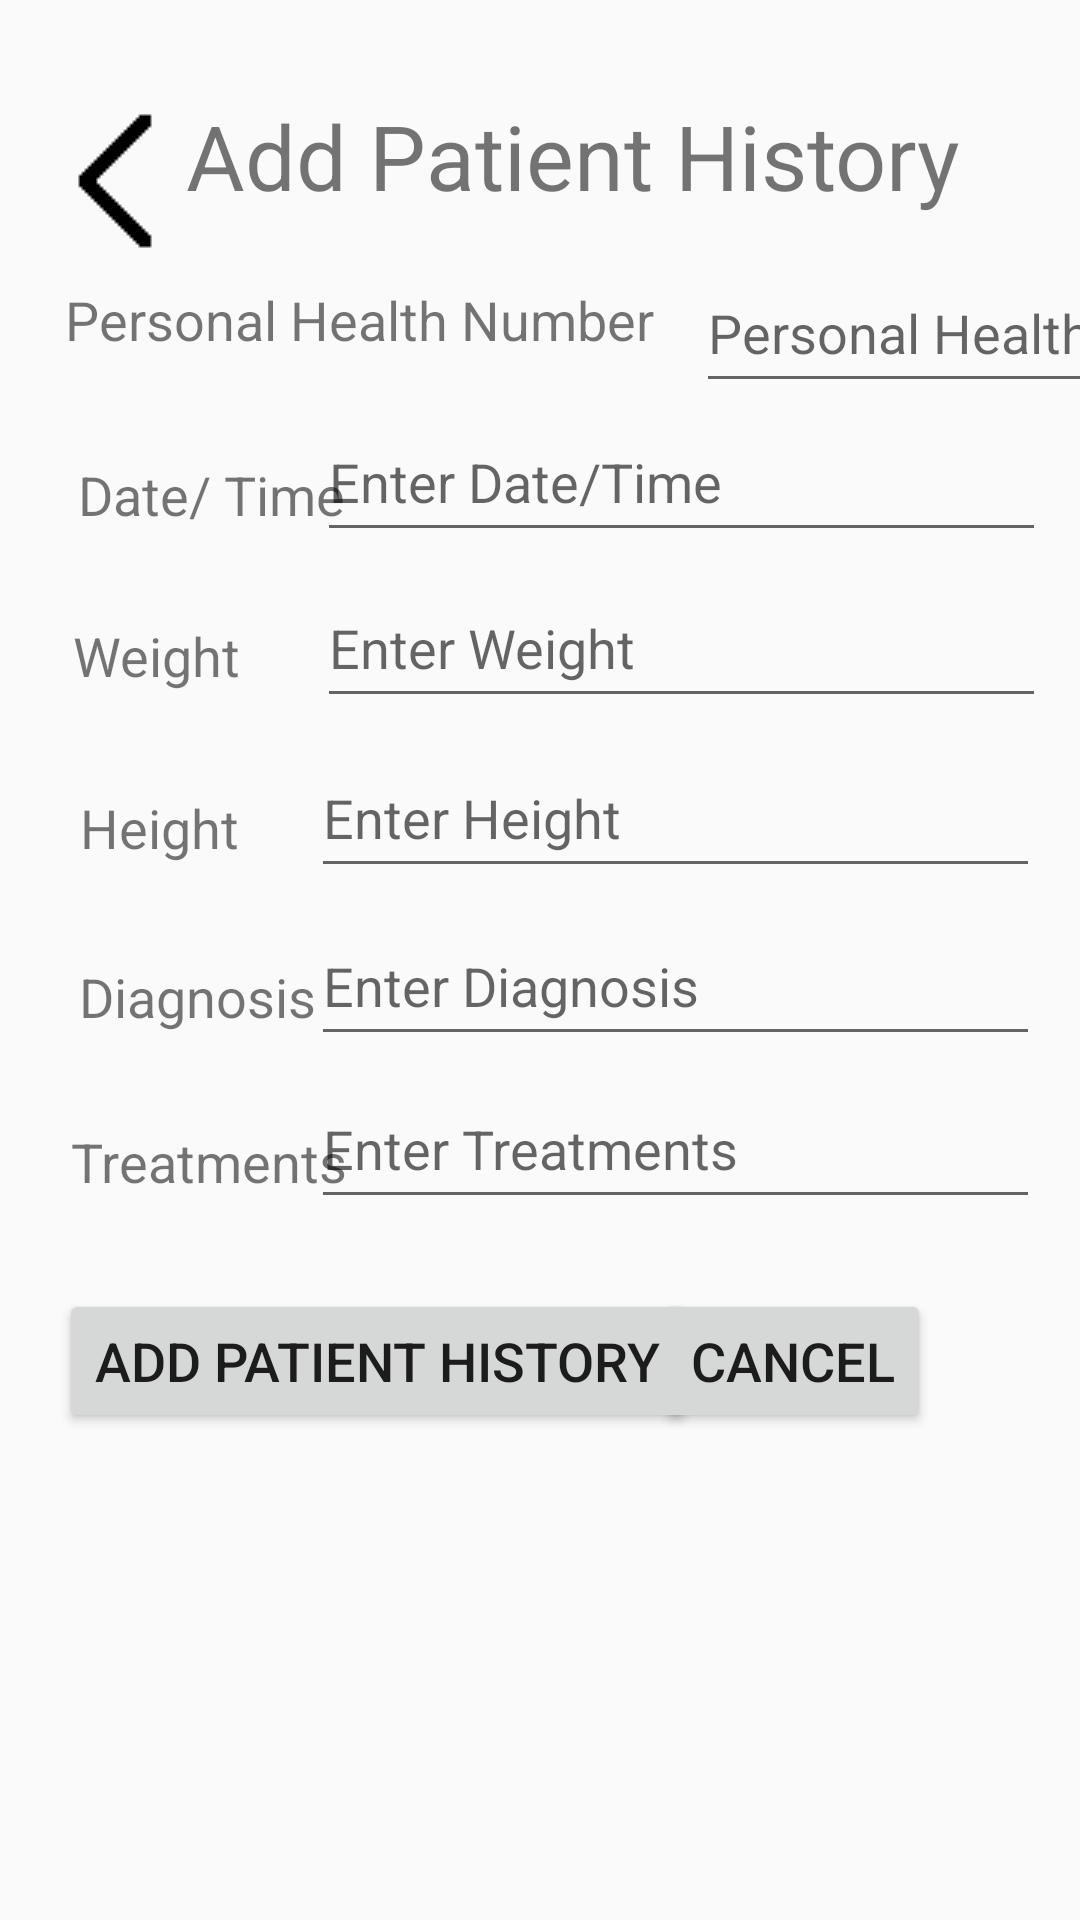

Icon bounding boxes for this 1080×1920 phone screenshot, format (x1=x1, y1=y1, x2=x2, y2=y2):
Back: (x1=78, y1=114, x2=152, y2=248)
